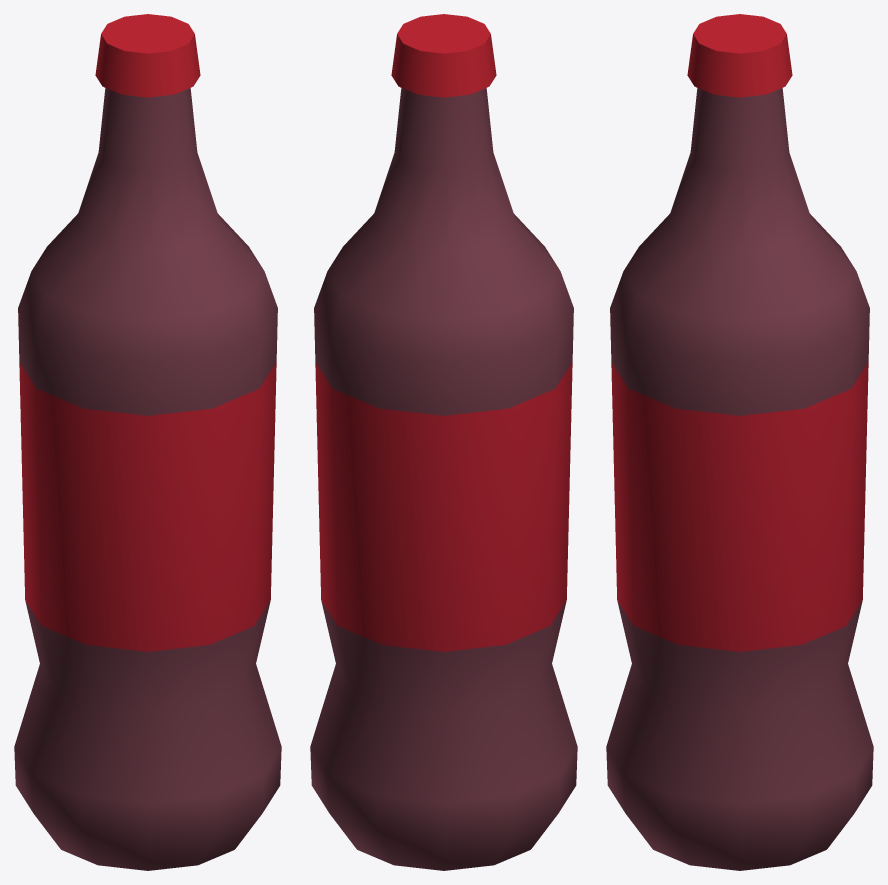
File: SodaBottleVar1.fbx
3 views of the same model, side by side, from view 1: azimuth 30°, elevation 25°; view 2: azimuth 150°, elevation 25°; view 3: azimuth 270°, elevation 25° (orthographic).
Parts seen in each view (by area): view 1: SodaBottle_01; view 2: SodaBottle_01; view 3: SodaBottle_01.
Part boxes in pixels (x1,y1,x2,y2): SodaBottle_01: [14, 14, 281, 870]; SodaBottle_01: [310, 14, 577, 870]; SodaBottle_01: [606, 14, 873, 870].
Size of the model in its own units: 0.1076 by 0.1076 by 0.3529.
